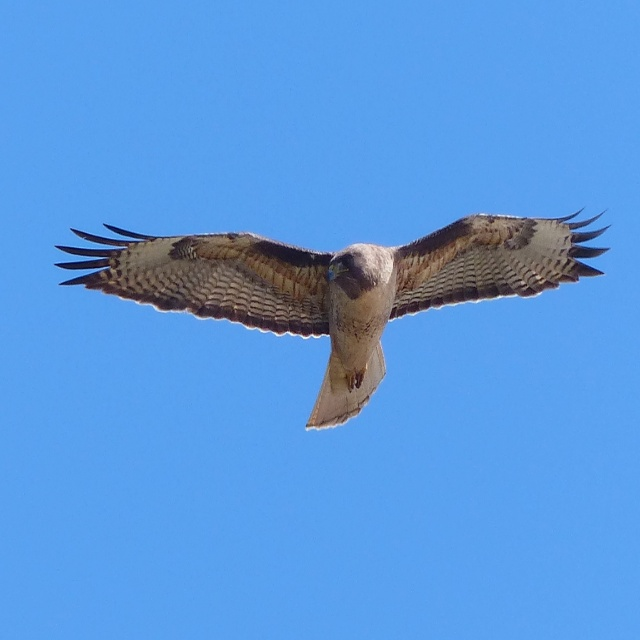Eagle: (54, 205, 611, 432)
